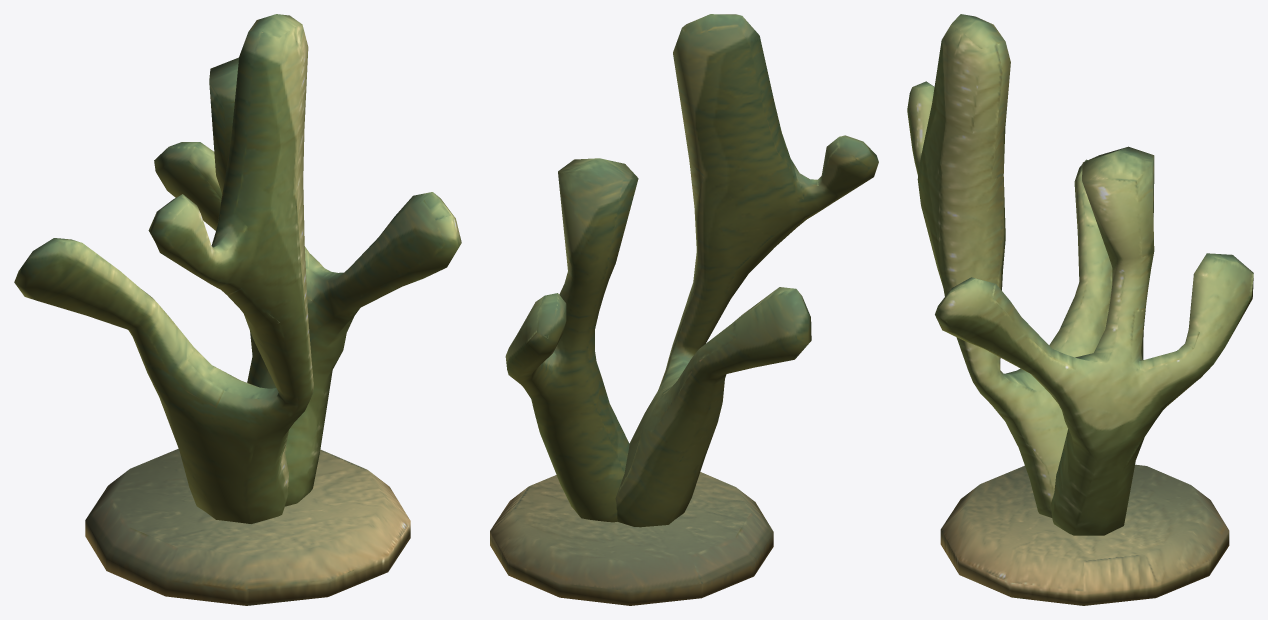
The model's file is CoastalCactus.glb.
3 renders of one model, left to right at view 1: azimuth 30°, elevation 25°; view 2: azimuth 150°, elevation 25°; view 3: azimuth 270°, elevation 25°, orthographic. The views are drawn at different scales.
Parts seen in each view (by area): view 1: 仙人掌中_gltf; view 2: 仙人掌中_gltf; view 3: 仙人掌中_gltf.
Boxes of the visible parts, x1,y1,x2,y2 form: 仙人掌中_gltf: (14, 14, 461, 605); 仙人掌中_gltf: (490, 14, 878, 605); 仙人掌中_gltf: (907, 14, 1253, 605).
Size of what is drawn, in the model's own units: 1.34 by 2.04 by 1.26.
1 material, 1 textured.
